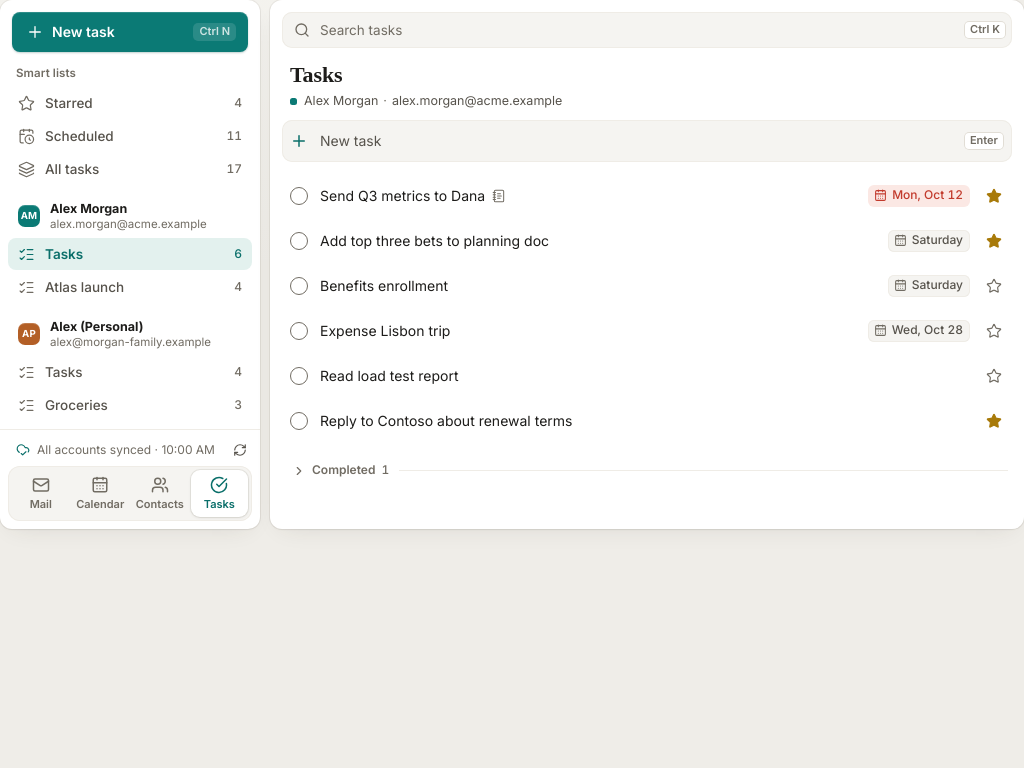
Test: Task lists › lists Starred tasks across accounts with their list names
The image size is (1024, 768).
expect the list "lists" is shown: met, box [0,56,260,429]
What coordinates should you click on to do the following:
click the option "Starred 4"
I would click on:
 (69, 103)
Its box is [18,94,242,112].
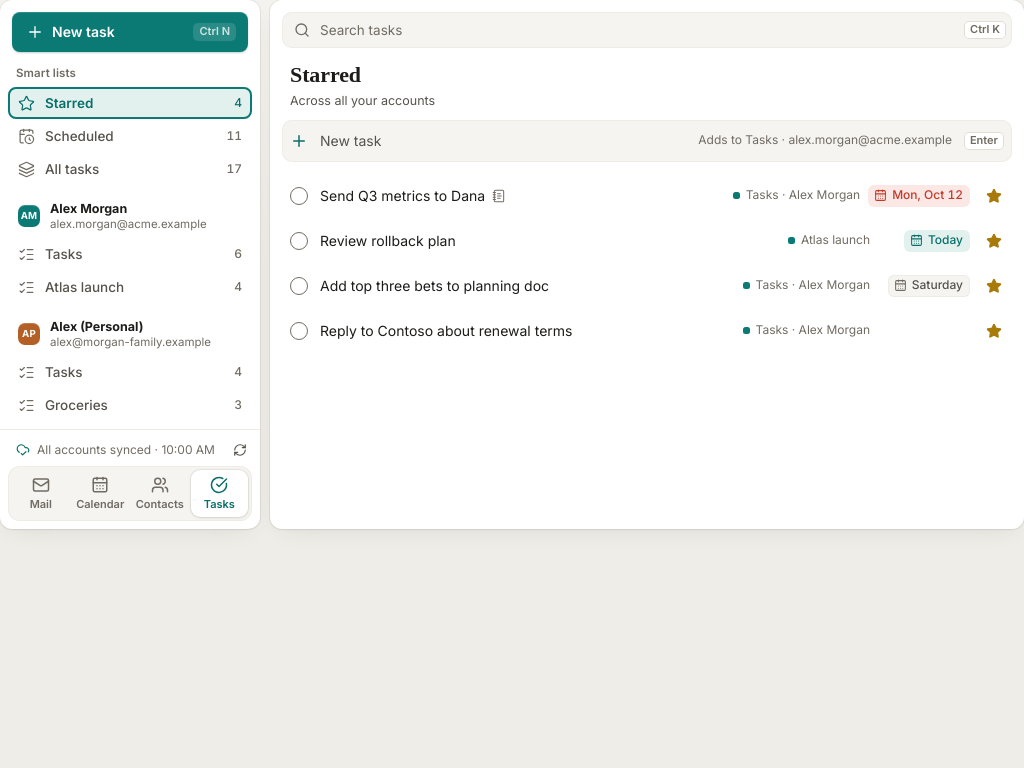
expect the option "Review rollback plan Atlas launch Today" is shown: met, box [290,229,1006,253]
expect the option "Send Q3 metrics to Dana Tasks · Alex Morgan Mon, Oct 12" is shown: met, box [290,184,1006,208]
